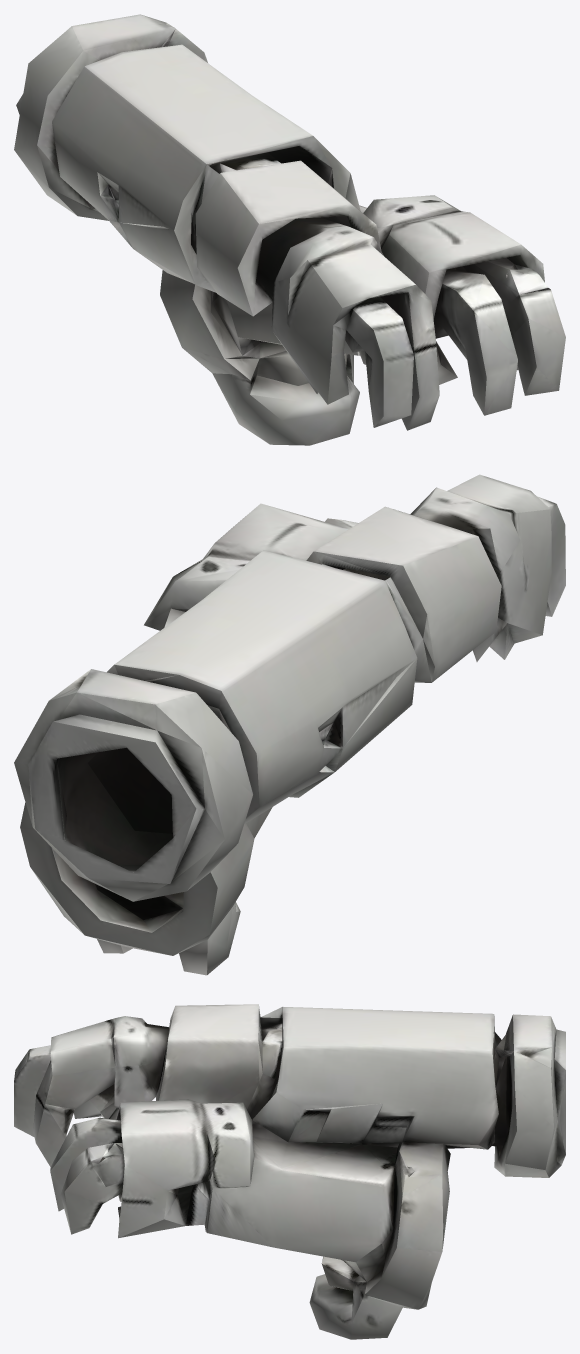
File: robotArmClaw.glb
3 views of the same model, one above another, from view 1: azimuth 30°, elevation 25°; view 2: azimuth 150°, elevation 25°; view 3: azimuth 270°, elevation 25° (orthographic). The views are drawn at different scales.
Parts seen in each view (by area): view 1: model; view 2: model; view 3: model.
Part boxes in pixels (<box>): model: <box>14,14,565,445</box>; model: <box>14,474,565,975</box>; model: <box>14,1004,565,1339</box>.
Bounding box in the file's own units: 0.8588 × 1.01 × 1.88.
1 material, 1 textured.
